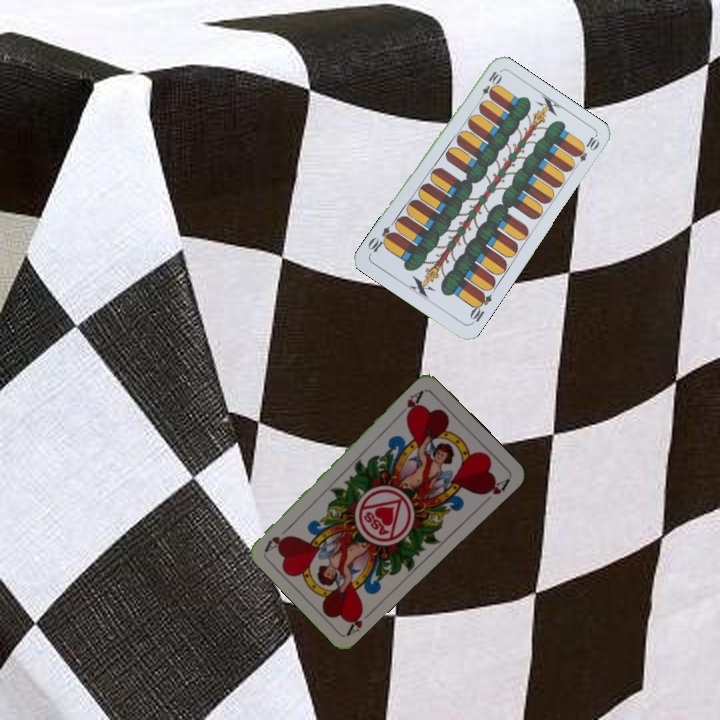E10: (465, 288, 495, 327), (475, 67, 503, 105)
HA: (343, 604, 377, 637), (395, 386, 427, 421)
